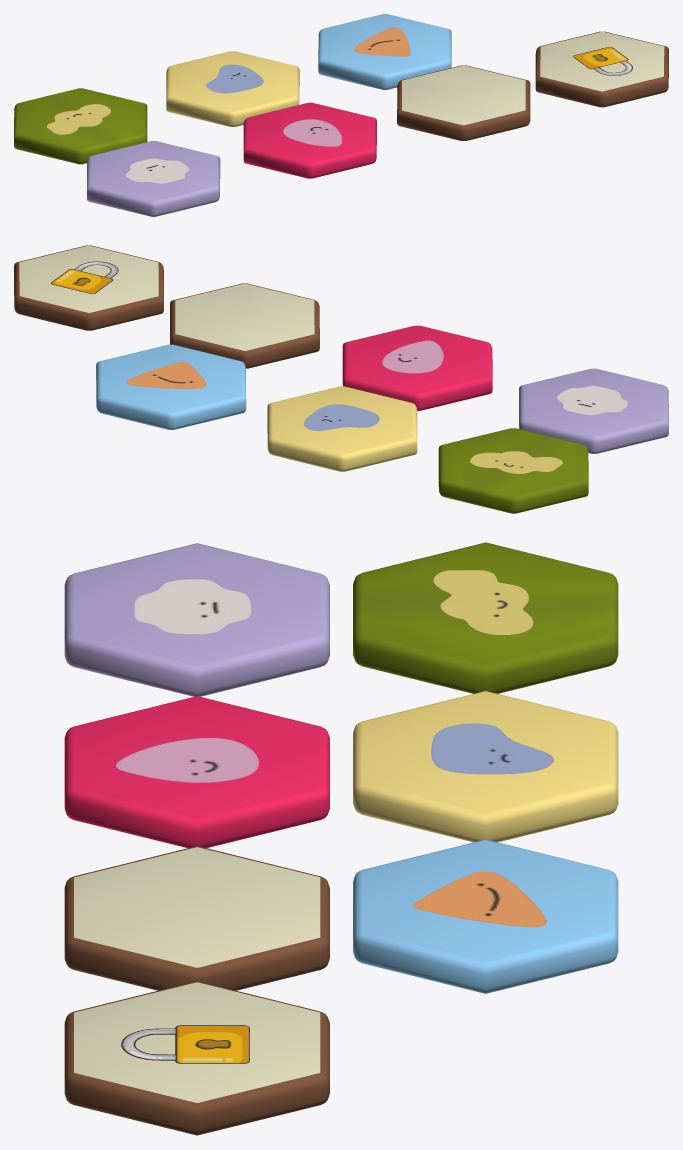
File: Buzzy Blocks_Hex.fbx
3 renders of one model, top to bottom at view 1: azimuth 30°, elevation 25°; view 2: azimuth 150°, elevation 25°; view 3: azimuth 270°, elevation 25°, orthographic. The views are drawn at different scales.
Parts seen in each view (by area): view 1: Hex, Hex_map, Hex_map.001, Hex.001, Hex.002, Hex.003, Hex.004; view 2: Hex.003, Hex.004, Hex.002, Hex_map.001, Hex, Hex.001, Hex_map; view 3: Hex.002, Hex_map.001, Hex.001, Hex, Hex.004, Hex.003, Hex_map.
Boxes of the visible parts, left/top/right/bottom form: Hex: left=243, top=102, right=376, bottom=178; Hex_map: left=397, top=65, right=530, bottom=140; Hex_map.001: left=535, top=31, right=668, bottom=107; Hex.001: left=87, top=141, right=220, bottom=216; Hex.002: left=318, top=14, right=451, bottom=89; Hex.003: left=166, top=51, right=299, bottom=126; Hex.004: left=14, top=88, right=147, bottom=164; Hex.003: left=267, top=386, right=417, bottom=471; Hex.004: left=438, top=428, right=588, bottom=513; Hex.002: left=96, top=344, right=246, bottom=429; Hex_map.001: left=14, top=245, right=163, bottom=330; Hex: left=342, top=325, right=492, bottom=410; Hex.001: left=519, top=368, right=668, bottom=453; Hex_map: left=170, top=283, right=319, bottom=368; Hex.002: left=353, top=839, right=618, bottom=993; Hex_map.001: left=64, top=981, right=329, bottom=1135; Hex.001: left=64, top=543, right=329, bottom=696; Hex: left=64, top=696, right=329, bottom=848; Hex.004: left=353, top=542, right=618, bottom=693; Hex.003: left=353, top=691, right=618, bottom=842; Hex_map: left=64, top=846, right=329, bottom=990.
Size of the model in its own units: 17.52 by 7.21 by 0.4842.
Materials: 5 (3 with a texture image).
